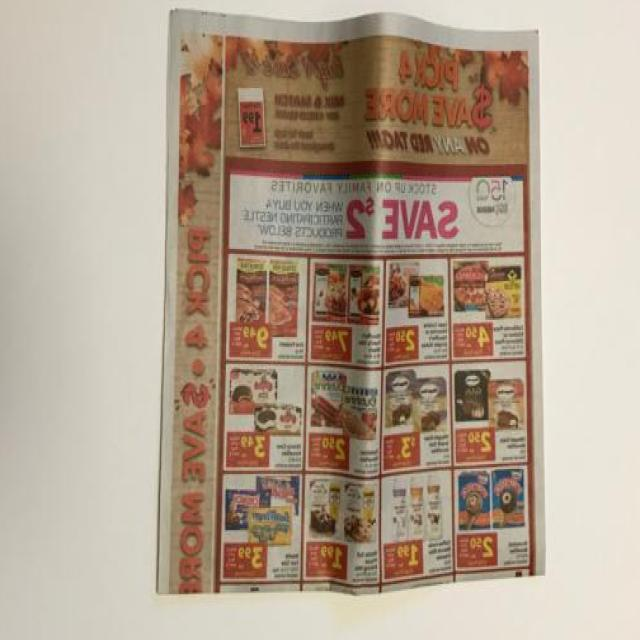kertas: (157, 8, 547, 598)
